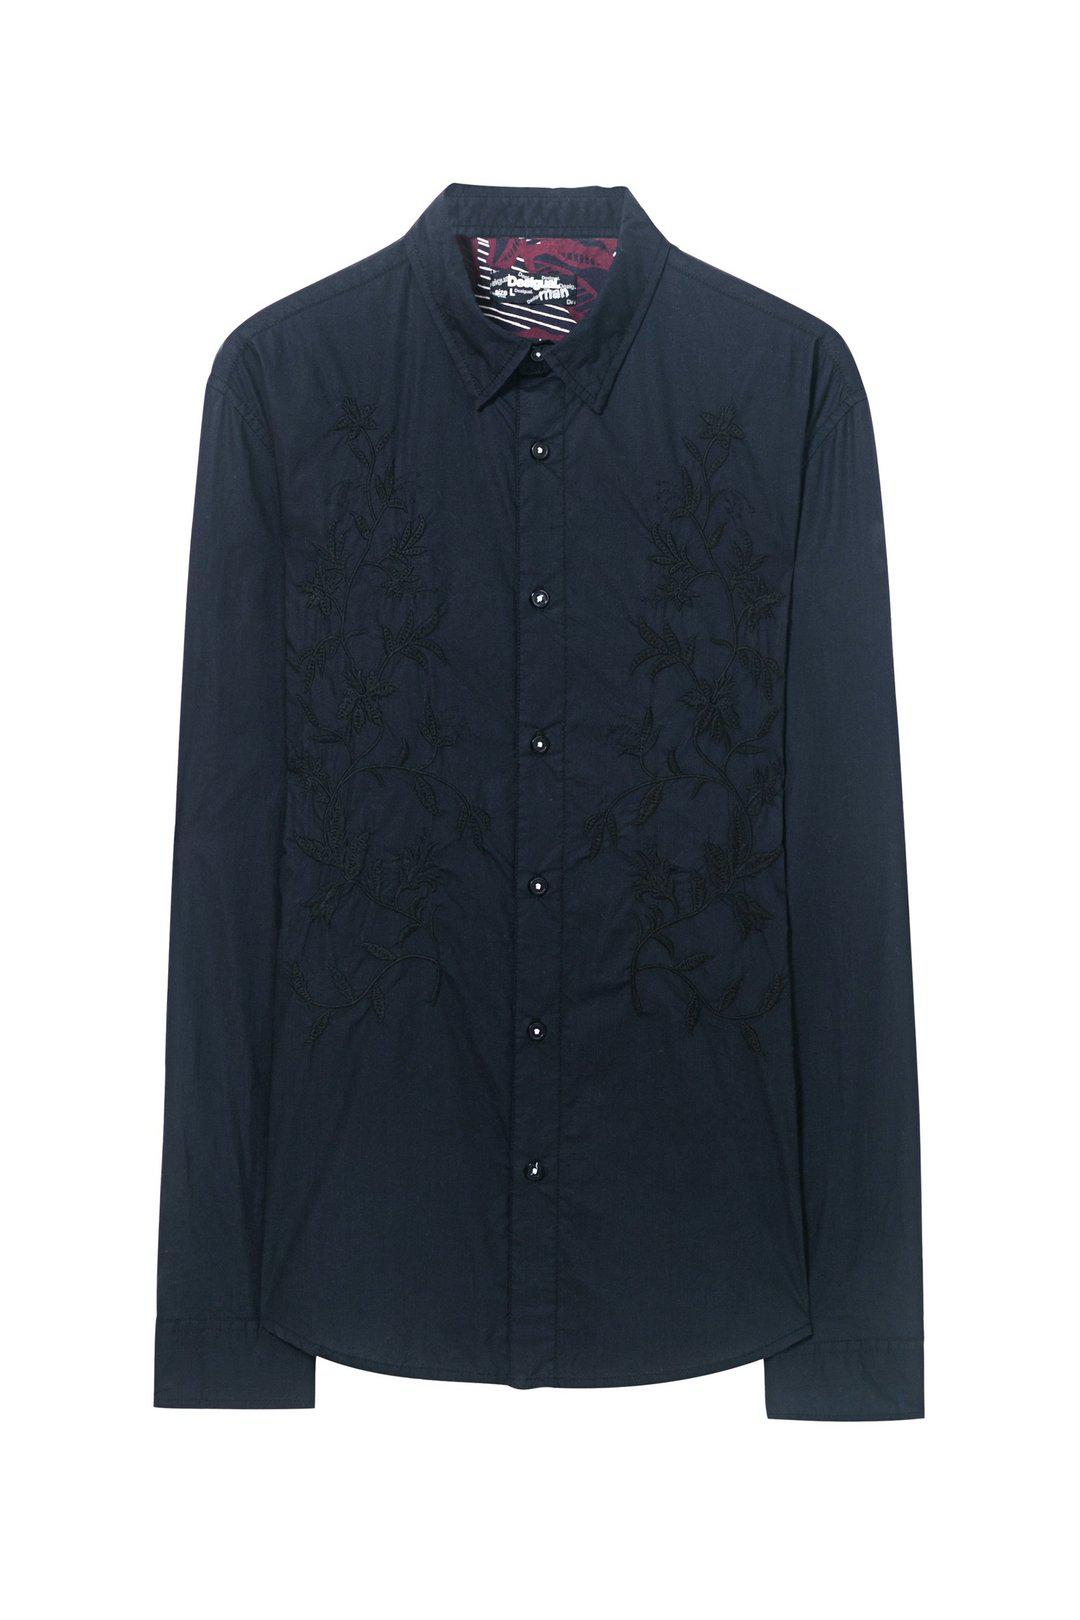teeshirt: (116, 170, 946, 1471)
